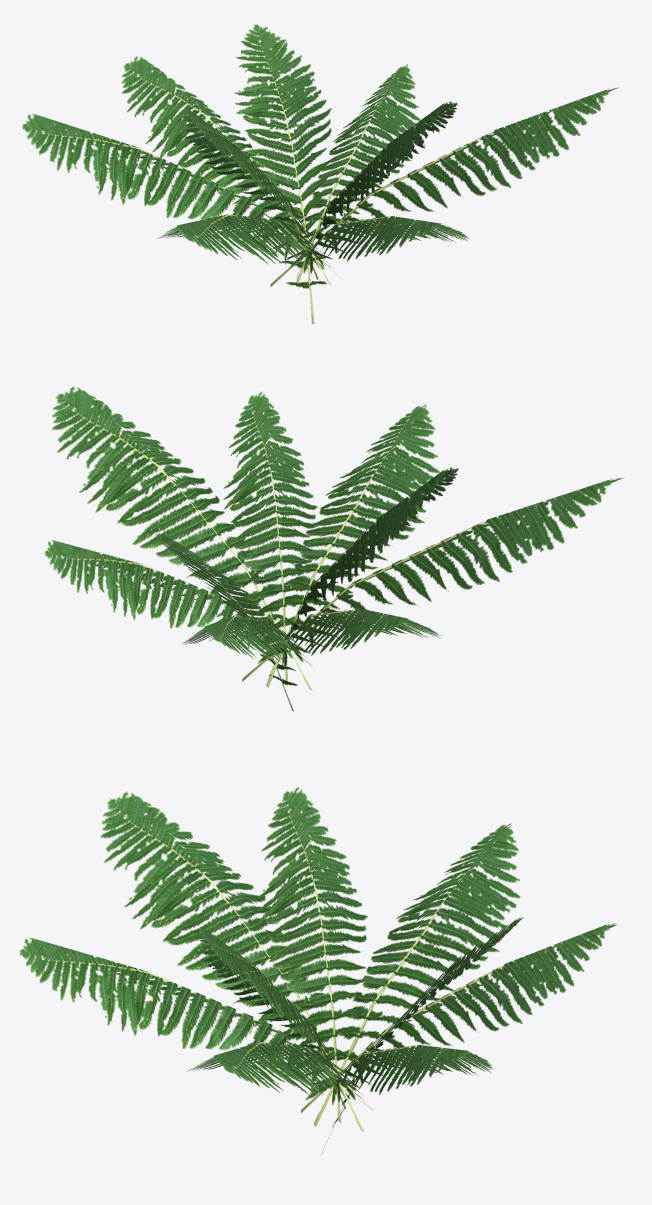
File: stklib_fern_a_a.glb
3 views of the same model, one above another, from view 1: azimuth 30°, elevation 25°; view 2: azimuth 150°, elevation 25°; view 3: azimuth 270°, elevation 25° (orthographic). The views are drawn at different scales.
Visible parts, largest first — view 1: stktex_fern_diff_a.png__; view 2: stktex_fern_diff_a.png__; view 3: stktex_fern_diff_a.png__.
Part boxes in pixels (left/top/right/bottom): stktex_fern_diff_a.png__: left=22, top=24, right=619, bottom=324; stktex_fern_diff_a.png__: left=44, top=386, right=624, bottom=711; stktex_fern_diff_a.png__: left=19, top=787, right=617, bottom=1154.
Bounding box in the file's own units: 4.78 × 2.21 × 4.17.
Materials: 1 (1 with a texture image).
